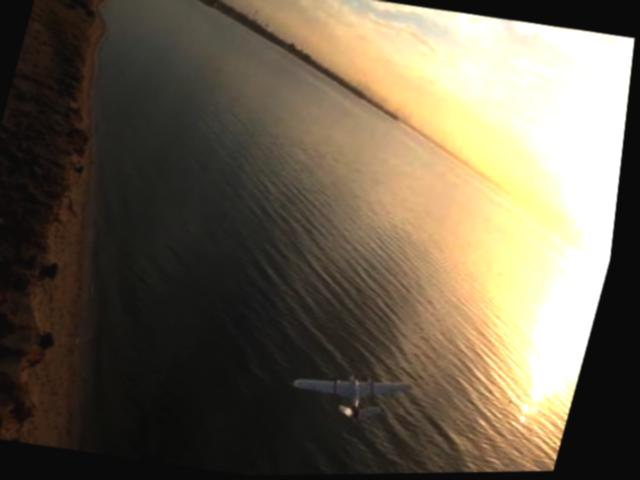uav: (289, 356, 430, 436)
